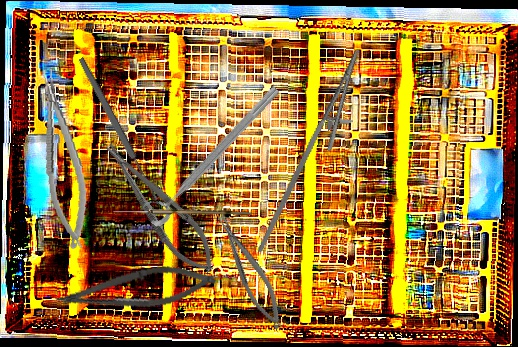Fixation Ring: (136, 75, 285, 230)
Micro Scissor: (52, 255, 219, 326)
Needle Holder: (256, 40, 376, 268), (93, 131, 227, 284), (33, 66, 94, 252), (212, 209, 290, 335)
Surgical Spoon: (76, 56, 161, 203), (113, 209, 252, 215)
